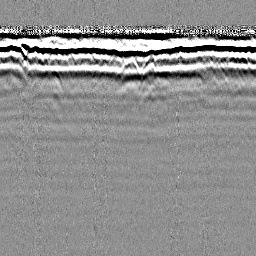cavity: (116, 57, 142, 81)
